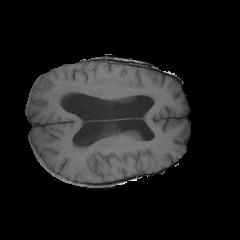glioma: (54, 77, 157, 98)
